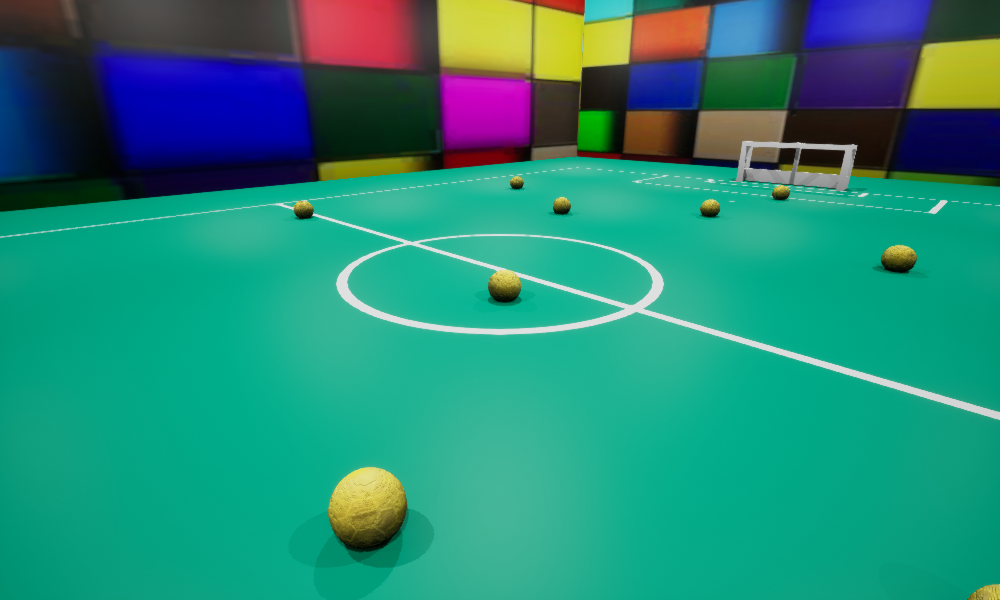b: (328, 467, 406, 548), (488, 270, 520, 301), (881, 245, 916, 271), (967, 584, 999, 599), (700, 199, 719, 216), (294, 201, 313, 217), (553, 197, 570, 213), (772, 185, 789, 199), (510, 176, 523, 188)
g: (736, 141, 857, 190)
